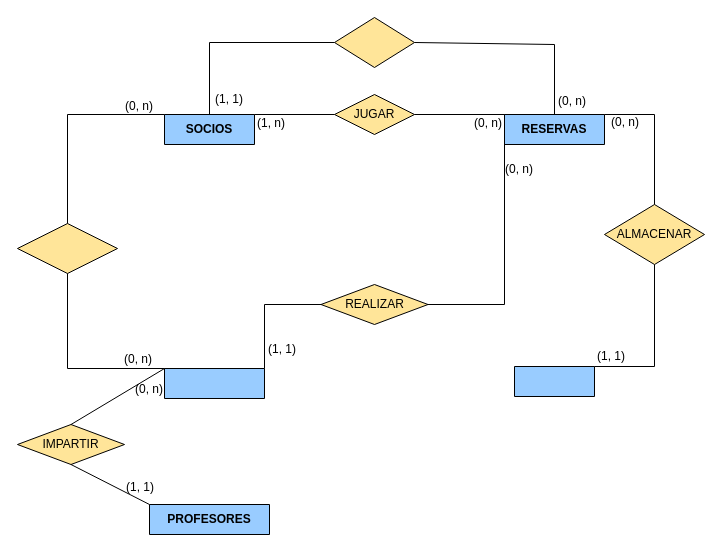
Image size: 722x552. Some labels were removed from this diagram. Here are the shapes that lost their labels. From the top down, the centre of each, then its label:
At pixel 374 42: "HACER".
At pixel 67 248: "TOMAR".
At pixel 214 383: "CURSOS".
At pixel 554 381: "PISTAS".
